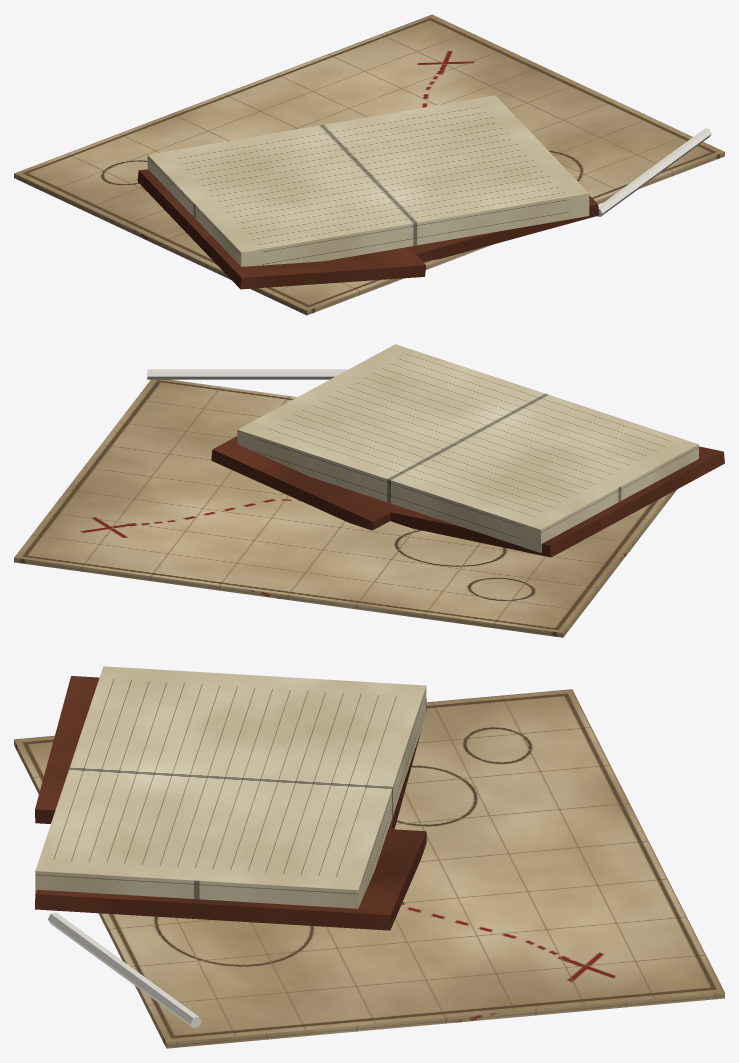
Rendered from Journal.gltf.
3 renders of one model, top to bottom at view 1: azimuth 30°, elevation 25°; view 2: azimuth 150°, elevation 25°; view 3: azimuth 270°, elevation 25°, orthographic. The views are drawn at different scales.
Visible parts, largest first — view 1: Journal; view 2: Journal; view 3: Journal.
Boxes of the visible parts, left/top/right/bottom form: Journal: left=14, top=14, right=724, bottom=315; Journal: left=14, top=344, right=724, bottom=637; Journal: left=14, top=666, right=724, bottom=1048.
Size of the model in its own units: 1.03 by 0.08 by 0.8718.
Materials: 4 (3 with a texture image).
